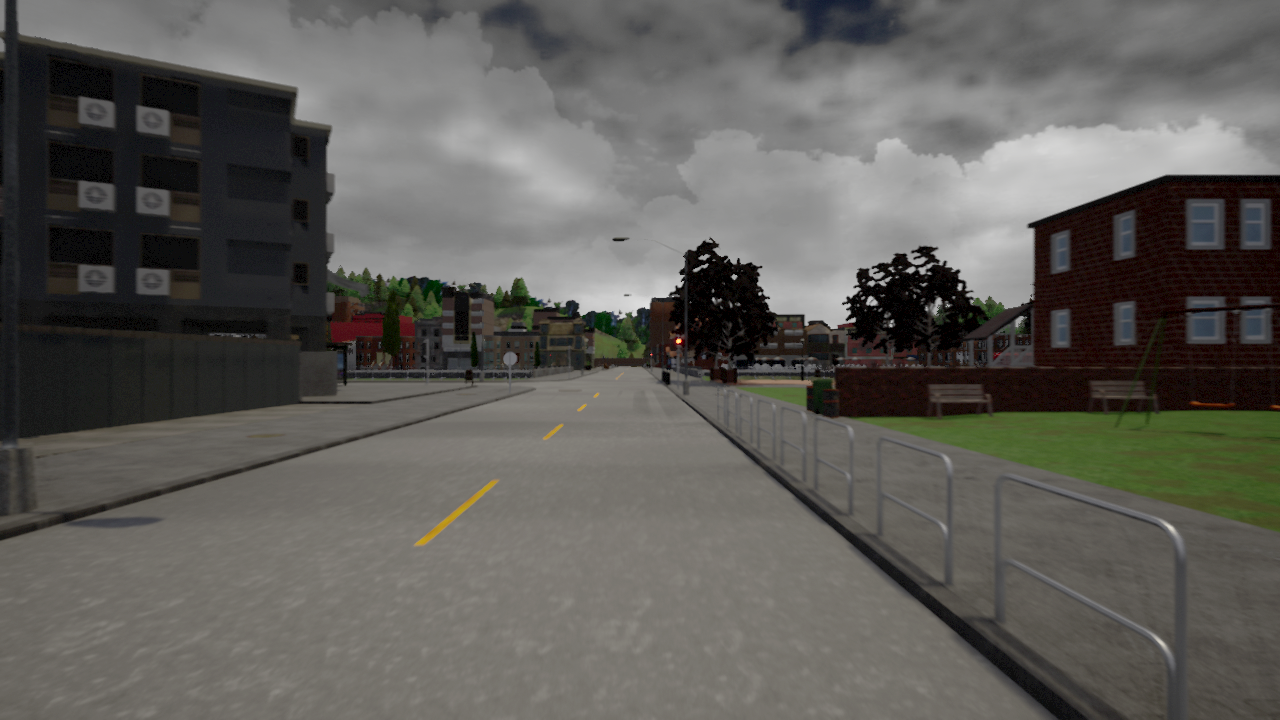red: (675, 336, 683, 354)
